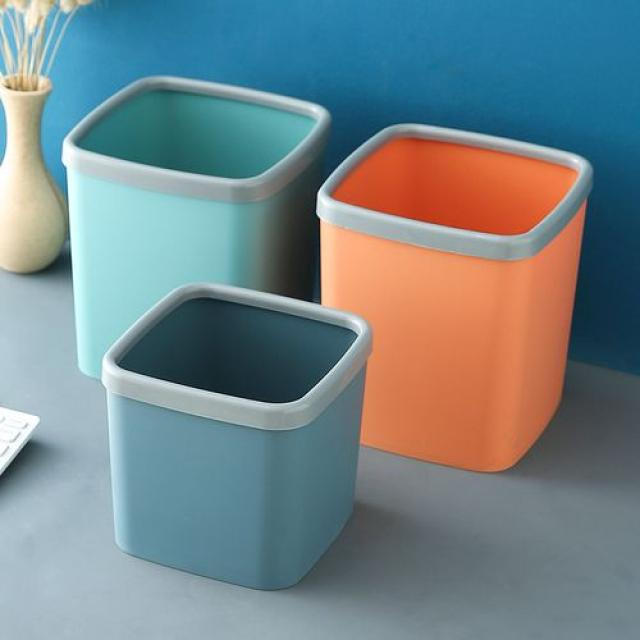dustbin: (100, 276, 380, 596)
